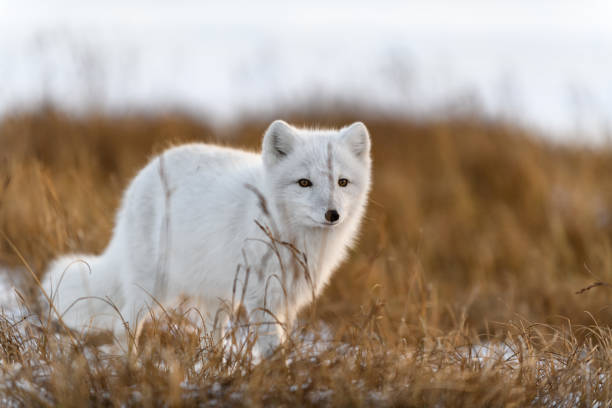arcticfox: (284, 145, 362, 236)
